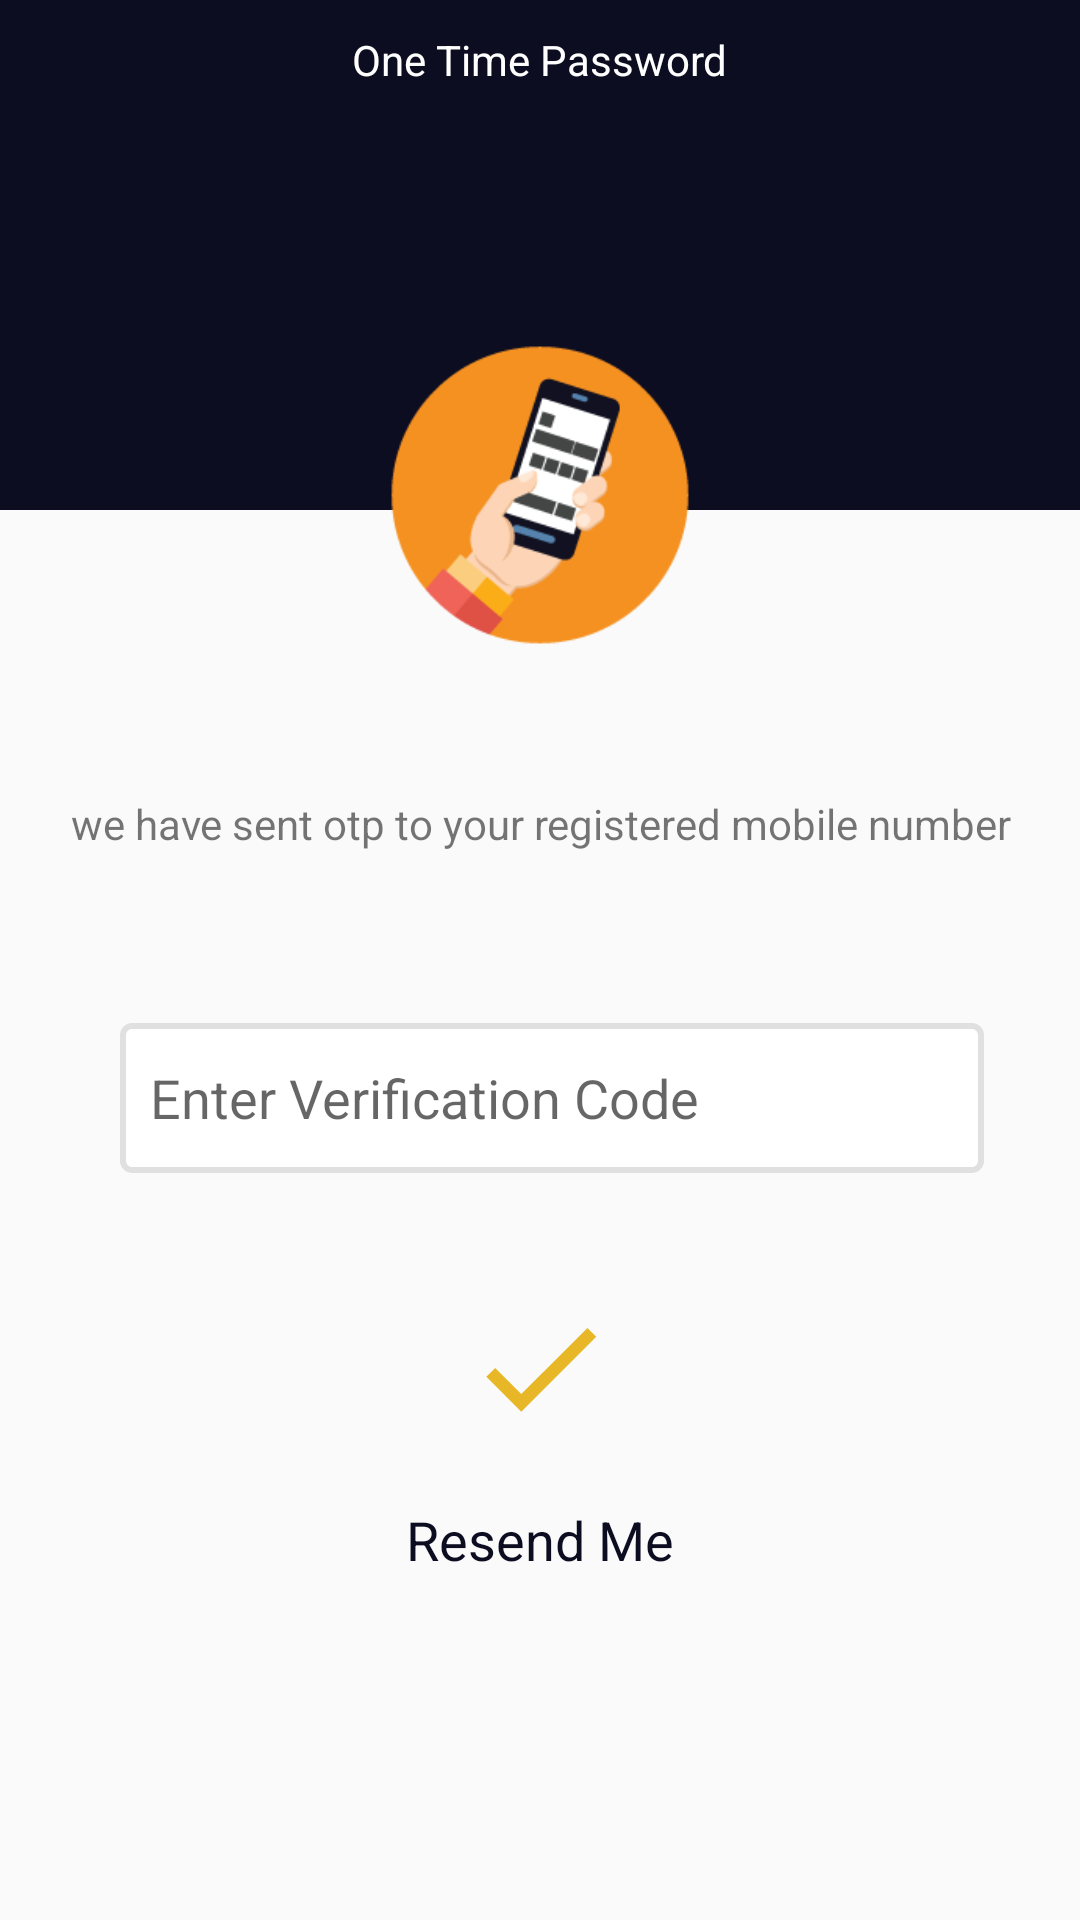

Named icons in this screenshot (1080 × 1920) and their centers, (x=x, y=y):
check: (x=541, y=1370)
